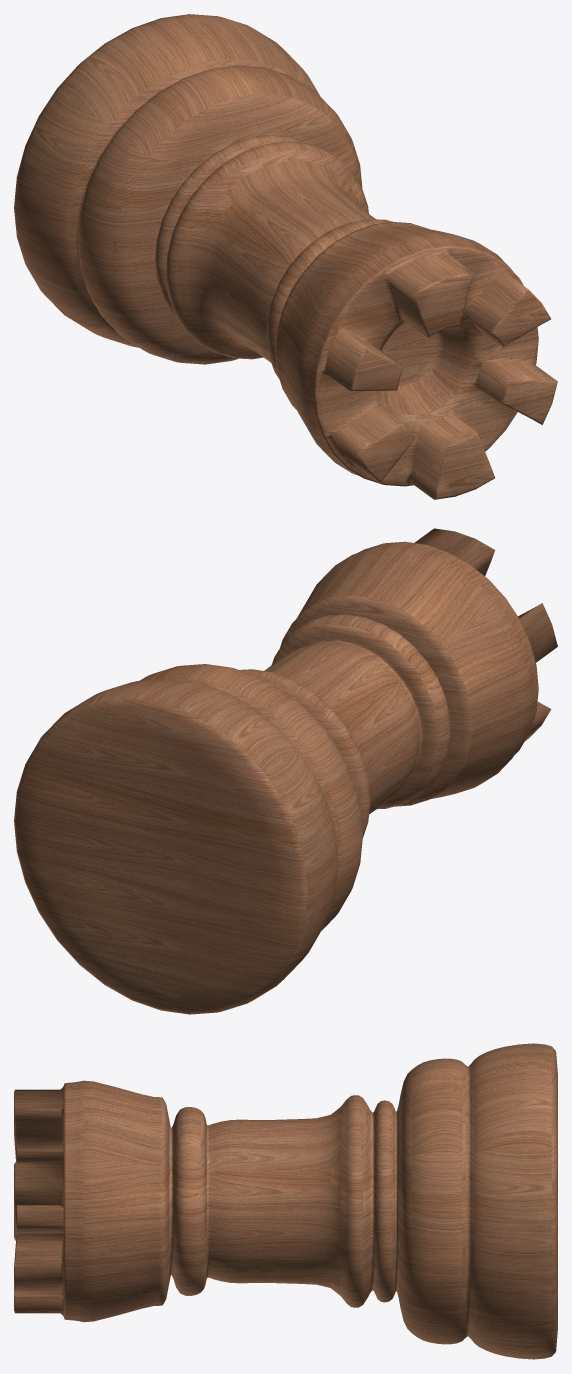
The model's file is rook.obj.
The picture shows the model from 3 angles, top to bottom: view 1: azimuth 30°, elevation 25°; view 2: azimuth 150°, elevation 25°; view 3: azimuth 270°, elevation 25°; orthographic projection. The views are drawn at different scales.
Visible parts, largest first — view 1: Rook_Plane.003; view 2: Rook_Plane.003; view 3: Rook_Plane.003.
Part boxes in pixels (<box>): Rook_Plane.003: <box>14,14,557,499</box>; Rook_Plane.003: <box>14,528,557,1014</box>; Rook_Plane.003: <box>14,1043,557,1359</box>.
Size of the model in its own units: 1.05 by 1.05 by 1.8.
